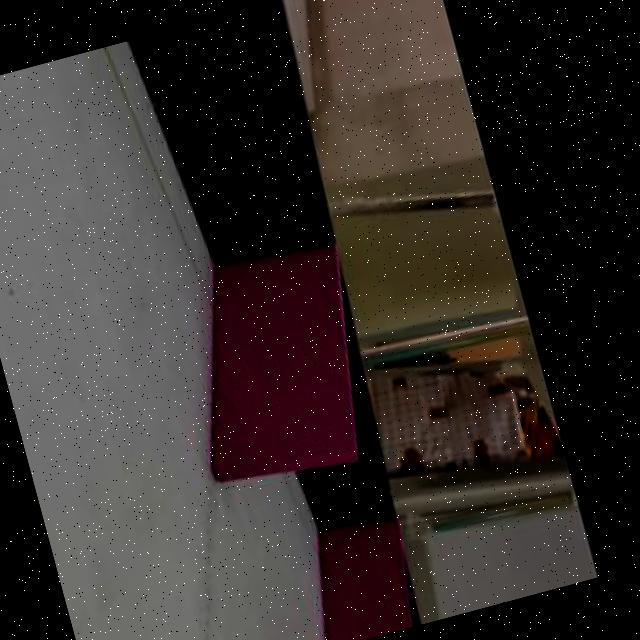xparking: (169, 260, 355, 480), (303, 519, 416, 640)
